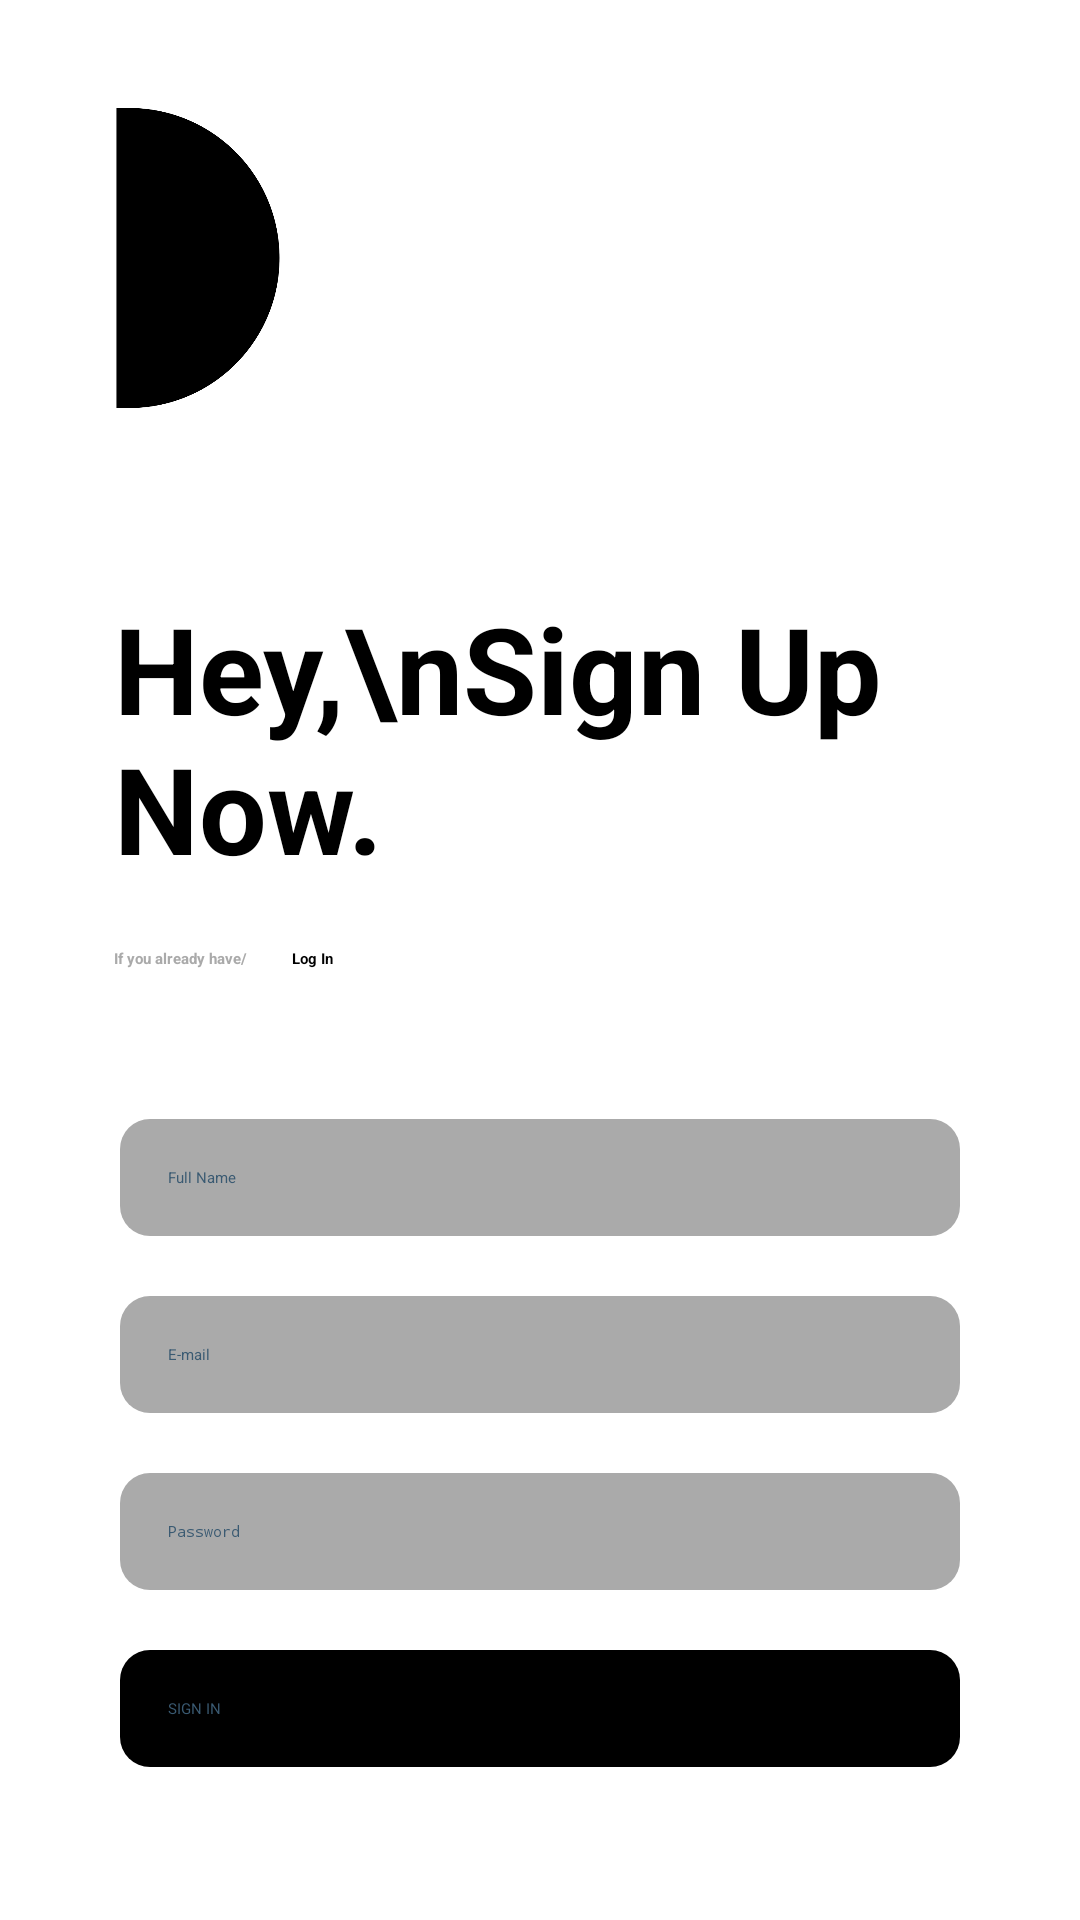

Point at icon controls on the screen. Image size 1080px x 1920px, points as (x=x, y=y).
semi circle: (x=198, y=258)
